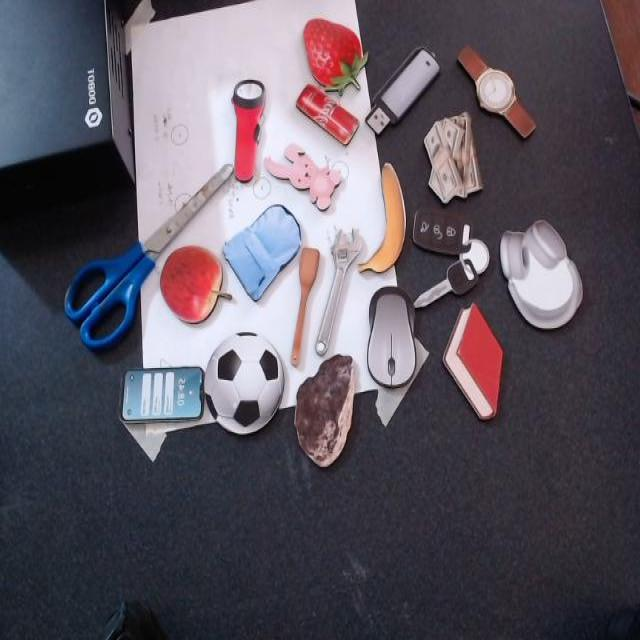Other Objects: (56, 113, 235, 365), (222, 190, 311, 304), (448, 42, 546, 141), (500, 217, 584, 329), (203, 329, 287, 437), (361, 39, 443, 144), (358, 162, 420, 285), (414, 209, 489, 307), (294, 352, 357, 468), (419, 110, 484, 206), (316, 225, 363, 355), (367, 283, 423, 391), (265, 141, 349, 211), (160, 244, 233, 324), (120, 365, 205, 424), (295, 79, 361, 148), (232, 77, 267, 181), (291, 247, 321, 365)
